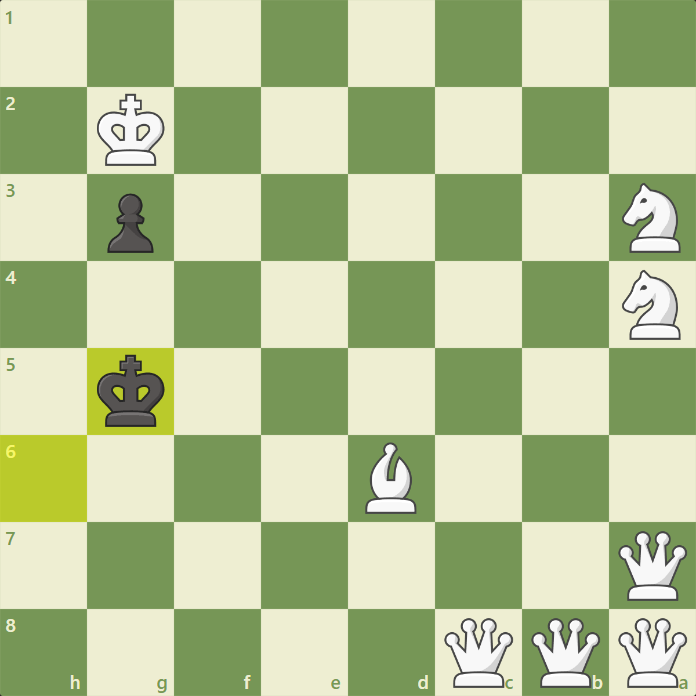B: (362, 441, 419, 516)
K: (95, 91, 168, 169)
N: (620, 267, 683, 343), (621, 180, 683, 255)
Q: (442, 616, 516, 691), (526, 615, 600, 690), (617, 615, 691, 690), (615, 528, 689, 603)
k: (94, 352, 167, 429)
p: (106, 192, 156, 256)
